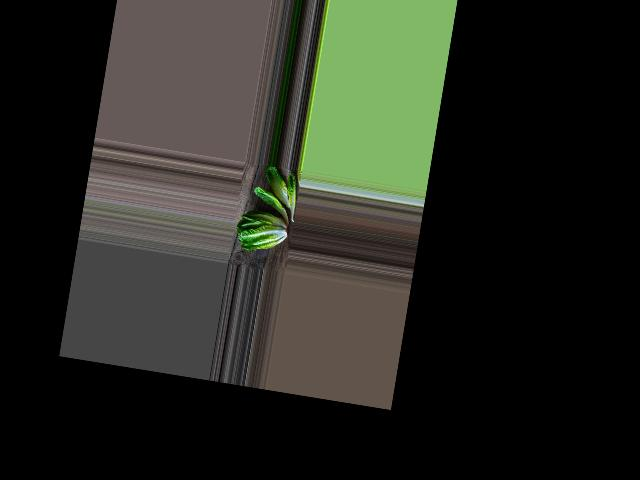lettuce: (234, 206, 289, 257)
